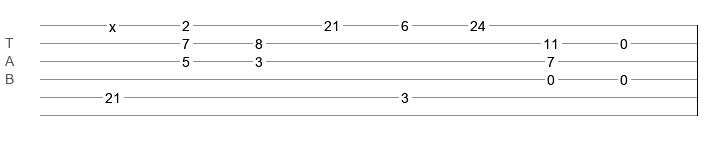0: (547, 72, 555, 82), (620, 72, 628, 82), (620, 36, 628, 46)
11: (543, 36, 559, 46)
2: (182, 18, 190, 28)
21: (105, 90, 121, 100), (324, 18, 340, 28)
24: (470, 18, 486, 28)
3: (255, 54, 263, 64), (401, 90, 409, 100)
5: (182, 54, 190, 64)
6: (401, 18, 409, 28)
7: (182, 36, 190, 46), (547, 54, 555, 64)
8: (255, 36, 263, 46)
x: (109, 19, 116, 27)
